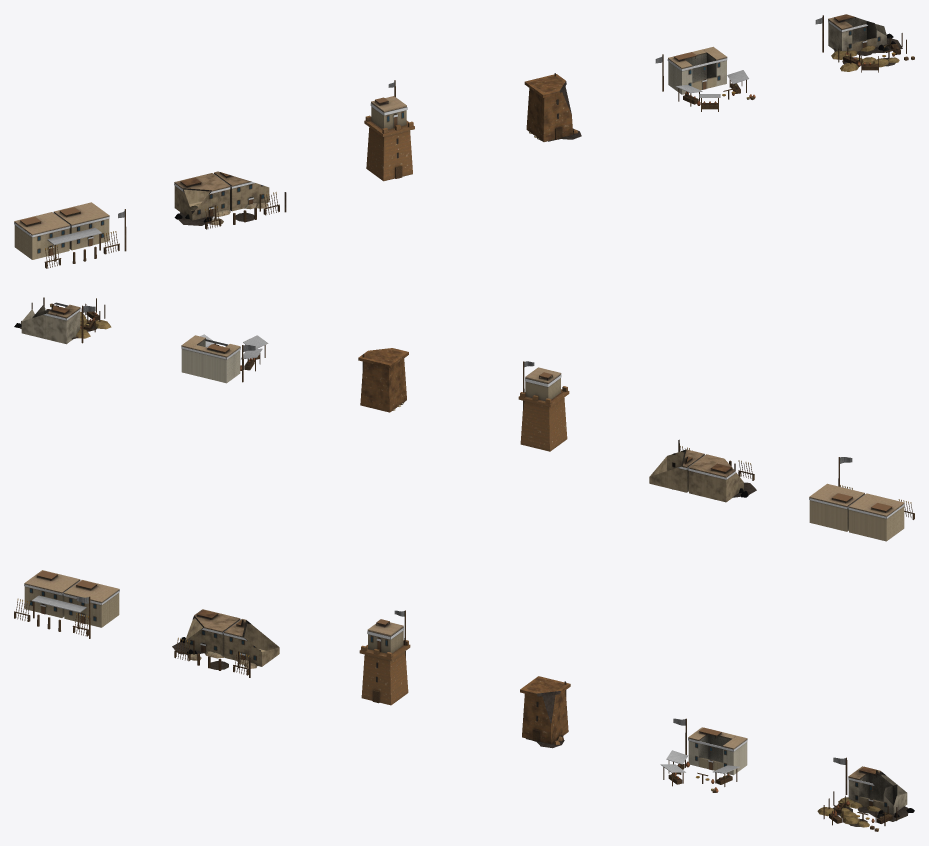
File: rts-bronze-nile.glb
The picture shows the model from 3 angles, top to bottom: view 1: azimuth 30°, elevation 25°; view 2: azimuth 150°, elevation 25°; view 3: azimuth 330°, elevation 25°; orthographic projection.
Parts seen in each view (by area): view 1: LOD0, LOD0.001, LOD0.002, LOD0.005, LOD0.004, LOD0.003; view 2: LOD0, LOD0.001, LOD0.002, LOD0.004, LOD0.003, LOD0.005; view 3: LOD0, LOD0.001, LOD0.005, LOD0.002, LOD0.004, LOD0.003.
Part boxes in pixels (box(x1,y1,x2,y2)): LOD0: box(14, 202, 126, 268); LOD0.001: box(174, 171, 286, 229); LOD0.002: box(364, 80, 414, 181); LOD0.005: box(815, 14, 914, 72); LOD0.004: box(655, 46, 755, 111); LOD0.003: box(524, 73, 581, 141); LOD0: box(809, 457, 914, 541); LOD0.001: box(649, 439, 756, 502); LOD0.002: box(518, 361, 569, 451); LOD0.004: box(181, 334, 268, 383); LOD0.003: box(358, 348, 408, 412); LOD0.005: box(14, 297, 111, 344); LOD0: box(14, 570, 119, 638); LOD0.001: box(172, 609, 279, 677); LOD0.005: box(817, 757, 914, 831); LOD0.002: box(359, 610, 410, 705); LOD0.004: box(660, 718, 747, 792); LOD0.003: box(520, 676, 570, 748).
Size of what is drawn, in the model's own units: 16.4 by 1.48 by 1.36.
Materials: 2 (2 with a texture image).
